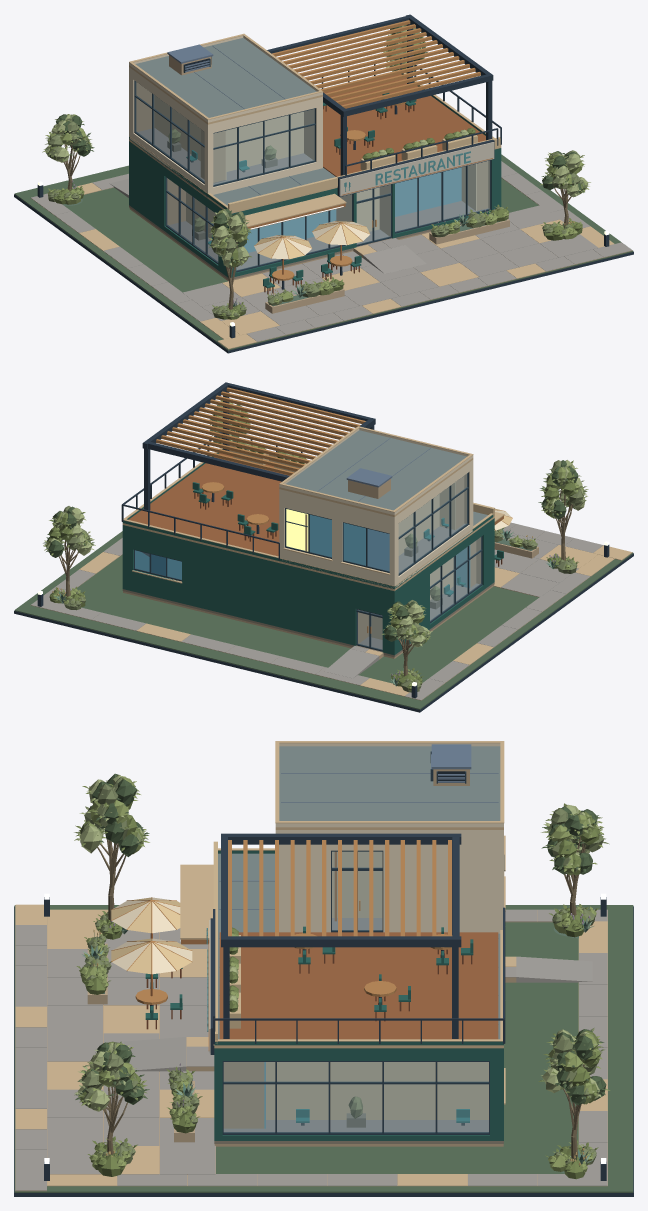
File: restaurante.fbx
3 renders of one model, top to bottom at view 1: azimuth 30°, elevation 25°; view 2: azimuth 150°, elevation 25°; view 3: azimuth 270°, elevation 25°, orthographic. The views are drawn at different scales.
Parts seen in each view (by area): view 1: Muros, Senderos y explanadas, Marquesinas, Marcos y lamas, Cristales transparentes, Islas de plantacion, Equipamiento de fachada, Setos y herbaceas, Remates minerales, Piedra y bordillos, Senaletica, Arbol 225 (+3 smaller); view 2: Muros, Marquesinas, Islas de plantacion, Marcos y lamas, Senderos y explanadas, Cristales transparentes, Acristalamiento opaco, Equipamiento de fachada, Piedra y bordillos, Remates minerales, Arbol 225, Arbol 224 (+2 smaller); view 3: Senderos y explanadas, Marquesinas, Muros, Islas de plantacion, Marcos y lamas, Cristales transparentes, Equipamiento de fachada, Setos y herbaceas, Arbol 225, Arbol 224, Arbol 226, Piedra y bordillos (+3 smaller).
Part boxes in pixels (x1,y1,x2,y2): Muros: [129, 67, 501, 277]; Senderos y explanadas: [31, 161, 632, 349]; Marquesinas: [129, 33, 501, 229]; Marcos y lamas: [134, 14, 501, 272]; Cristales transparentes: [136, 82, 489, 270]; Islas de plantacion: [14, 154, 633, 350]; Equipamiento de fachada: [167, 44, 475, 294]; Setos y herbaceas: [48, 180, 582, 319]; Remates minerales: [129, 135, 501, 281]; Piedra y bordillos: [14, 194, 633, 353]; Senaletica: [337, 139, 494, 196]; Arbol 225: [209, 208, 251, 309]; Muros: [122, 460, 494, 655]; Marquesinas: [122, 426, 504, 591]; Islas de plantacion: [14, 531, 633, 709]; Marcos y lamas: [121, 382, 482, 651]; Senderos y explanadas: [30, 522, 632, 700]; Cristales transparentes: [358, 474, 481, 649]; Acristalamiento opaco: [135, 509, 389, 579]; Equipamiento de fachada: [192, 441, 512, 609]; Piedra y bordillos: [14, 538, 633, 712]; Remates minerales: [122, 443, 494, 658]; Arbol 225: [538, 460, 588, 560]; Arbol 224: [43, 506, 95, 597]; Senderos y explanadas: [15, 904, 607, 1191]; Marquesinas: [180, 741, 504, 1048]; Muros: [214, 830, 503, 1140]; Islas de plantacion: [14, 905, 633, 1192]; Marcos y lamas: [180, 751, 505, 1134]; Cristales transparentes: [224, 852, 488, 1132]; Equipamiento de fachada: [111, 744, 473, 1127]; Setos y herbaceas: [76, 904, 598, 1179]; Arbol 225: [74, 773, 149, 920]; Arbol 224: [538, 1027, 610, 1159]; Arbol 226: [74, 1041, 149, 1154]; Piedra y bordillos: [14, 906, 633, 1196].
Size of the model in its own units: 23 by 8.77 by 21.
